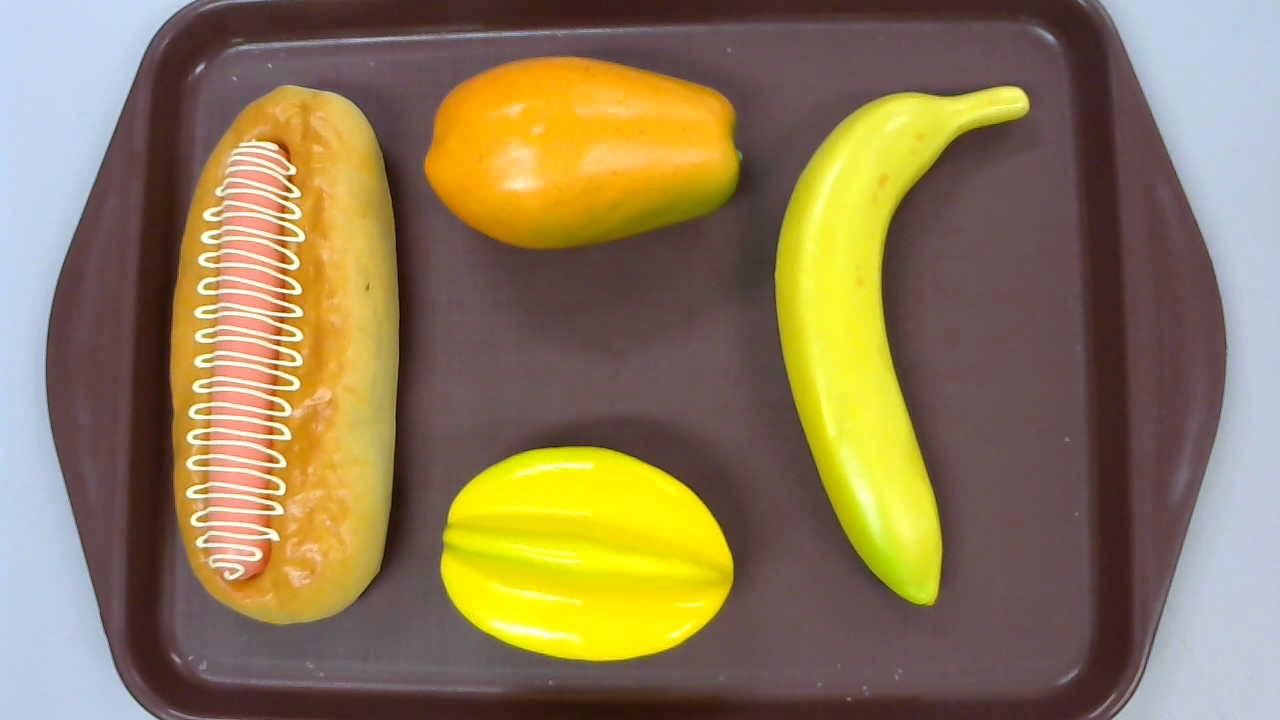banana: (775, 85, 1030, 608)
hot dog: (169, 84, 398, 626)
papya: (422, 55, 743, 249)
star fruit: (441, 446, 734, 662)
